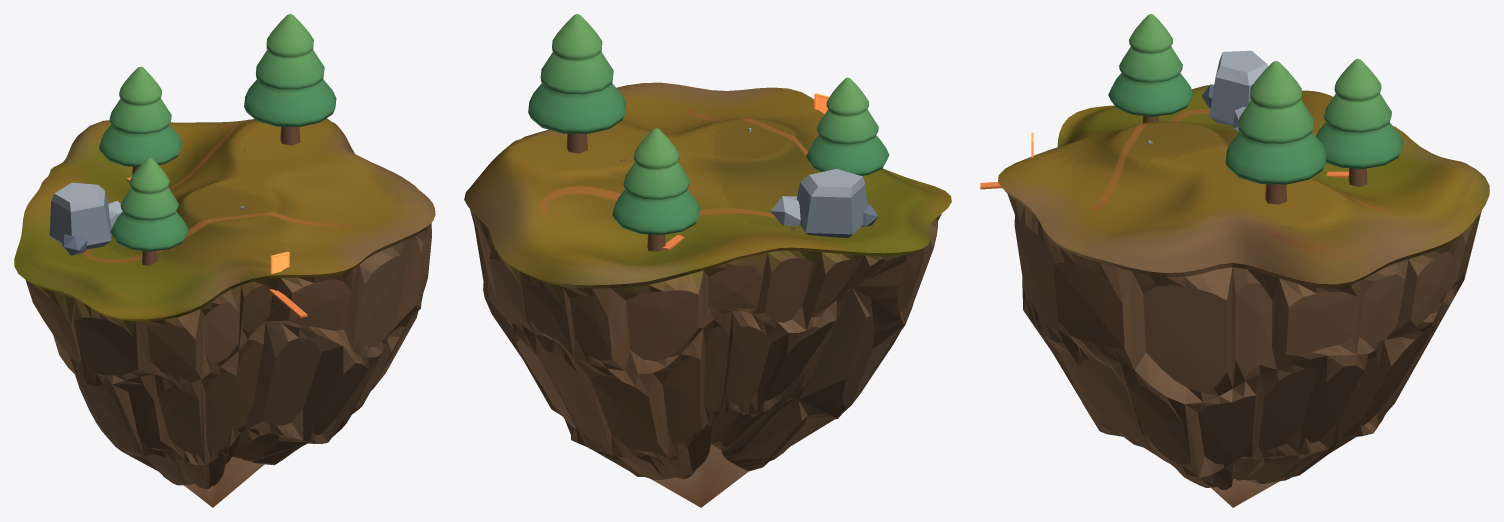
File: break.glb
3 views of the same model, side by side, from view 1: azimuth 30°, elevation 25°; view 2: azimuth 150°, elevation 25°; view 3: azimuth 270°, elevation 25° (orthographic). The views are drawn at different scales.
Visible parts, largest first — view 1: ground, remote_props; view 2: ground, remote_props; view 3: ground, remote_props.
Part boxes in pixels (<box>): ground: <box>14,118,435,507</box>; remote_props: <box>49,14,336,265</box>; ground: <box>464,82,951,507</box>; remote_props: <box>528,14,889,251</box>; ground: <box>998,85,1489,507</box>; remote_props: <box>1108,14,1403,204</box>.
Bounding box in the file's own units: 37.01 × 42.66 × 39.5.
